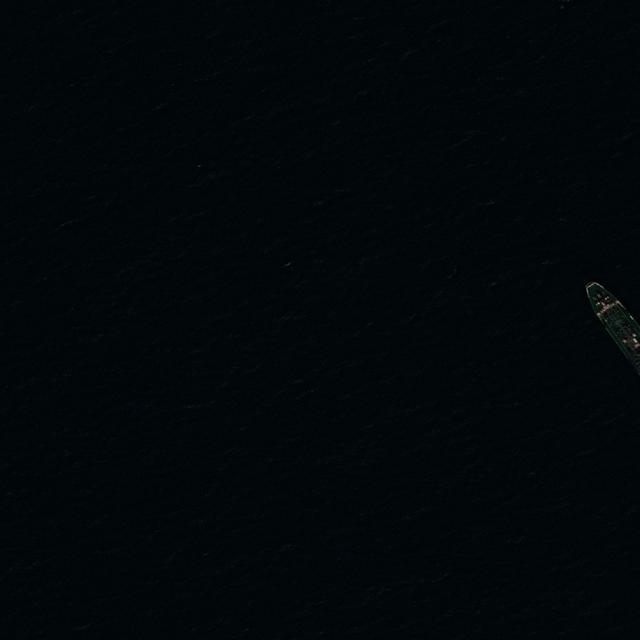Oil Tanker: (583, 281, 640, 373)
